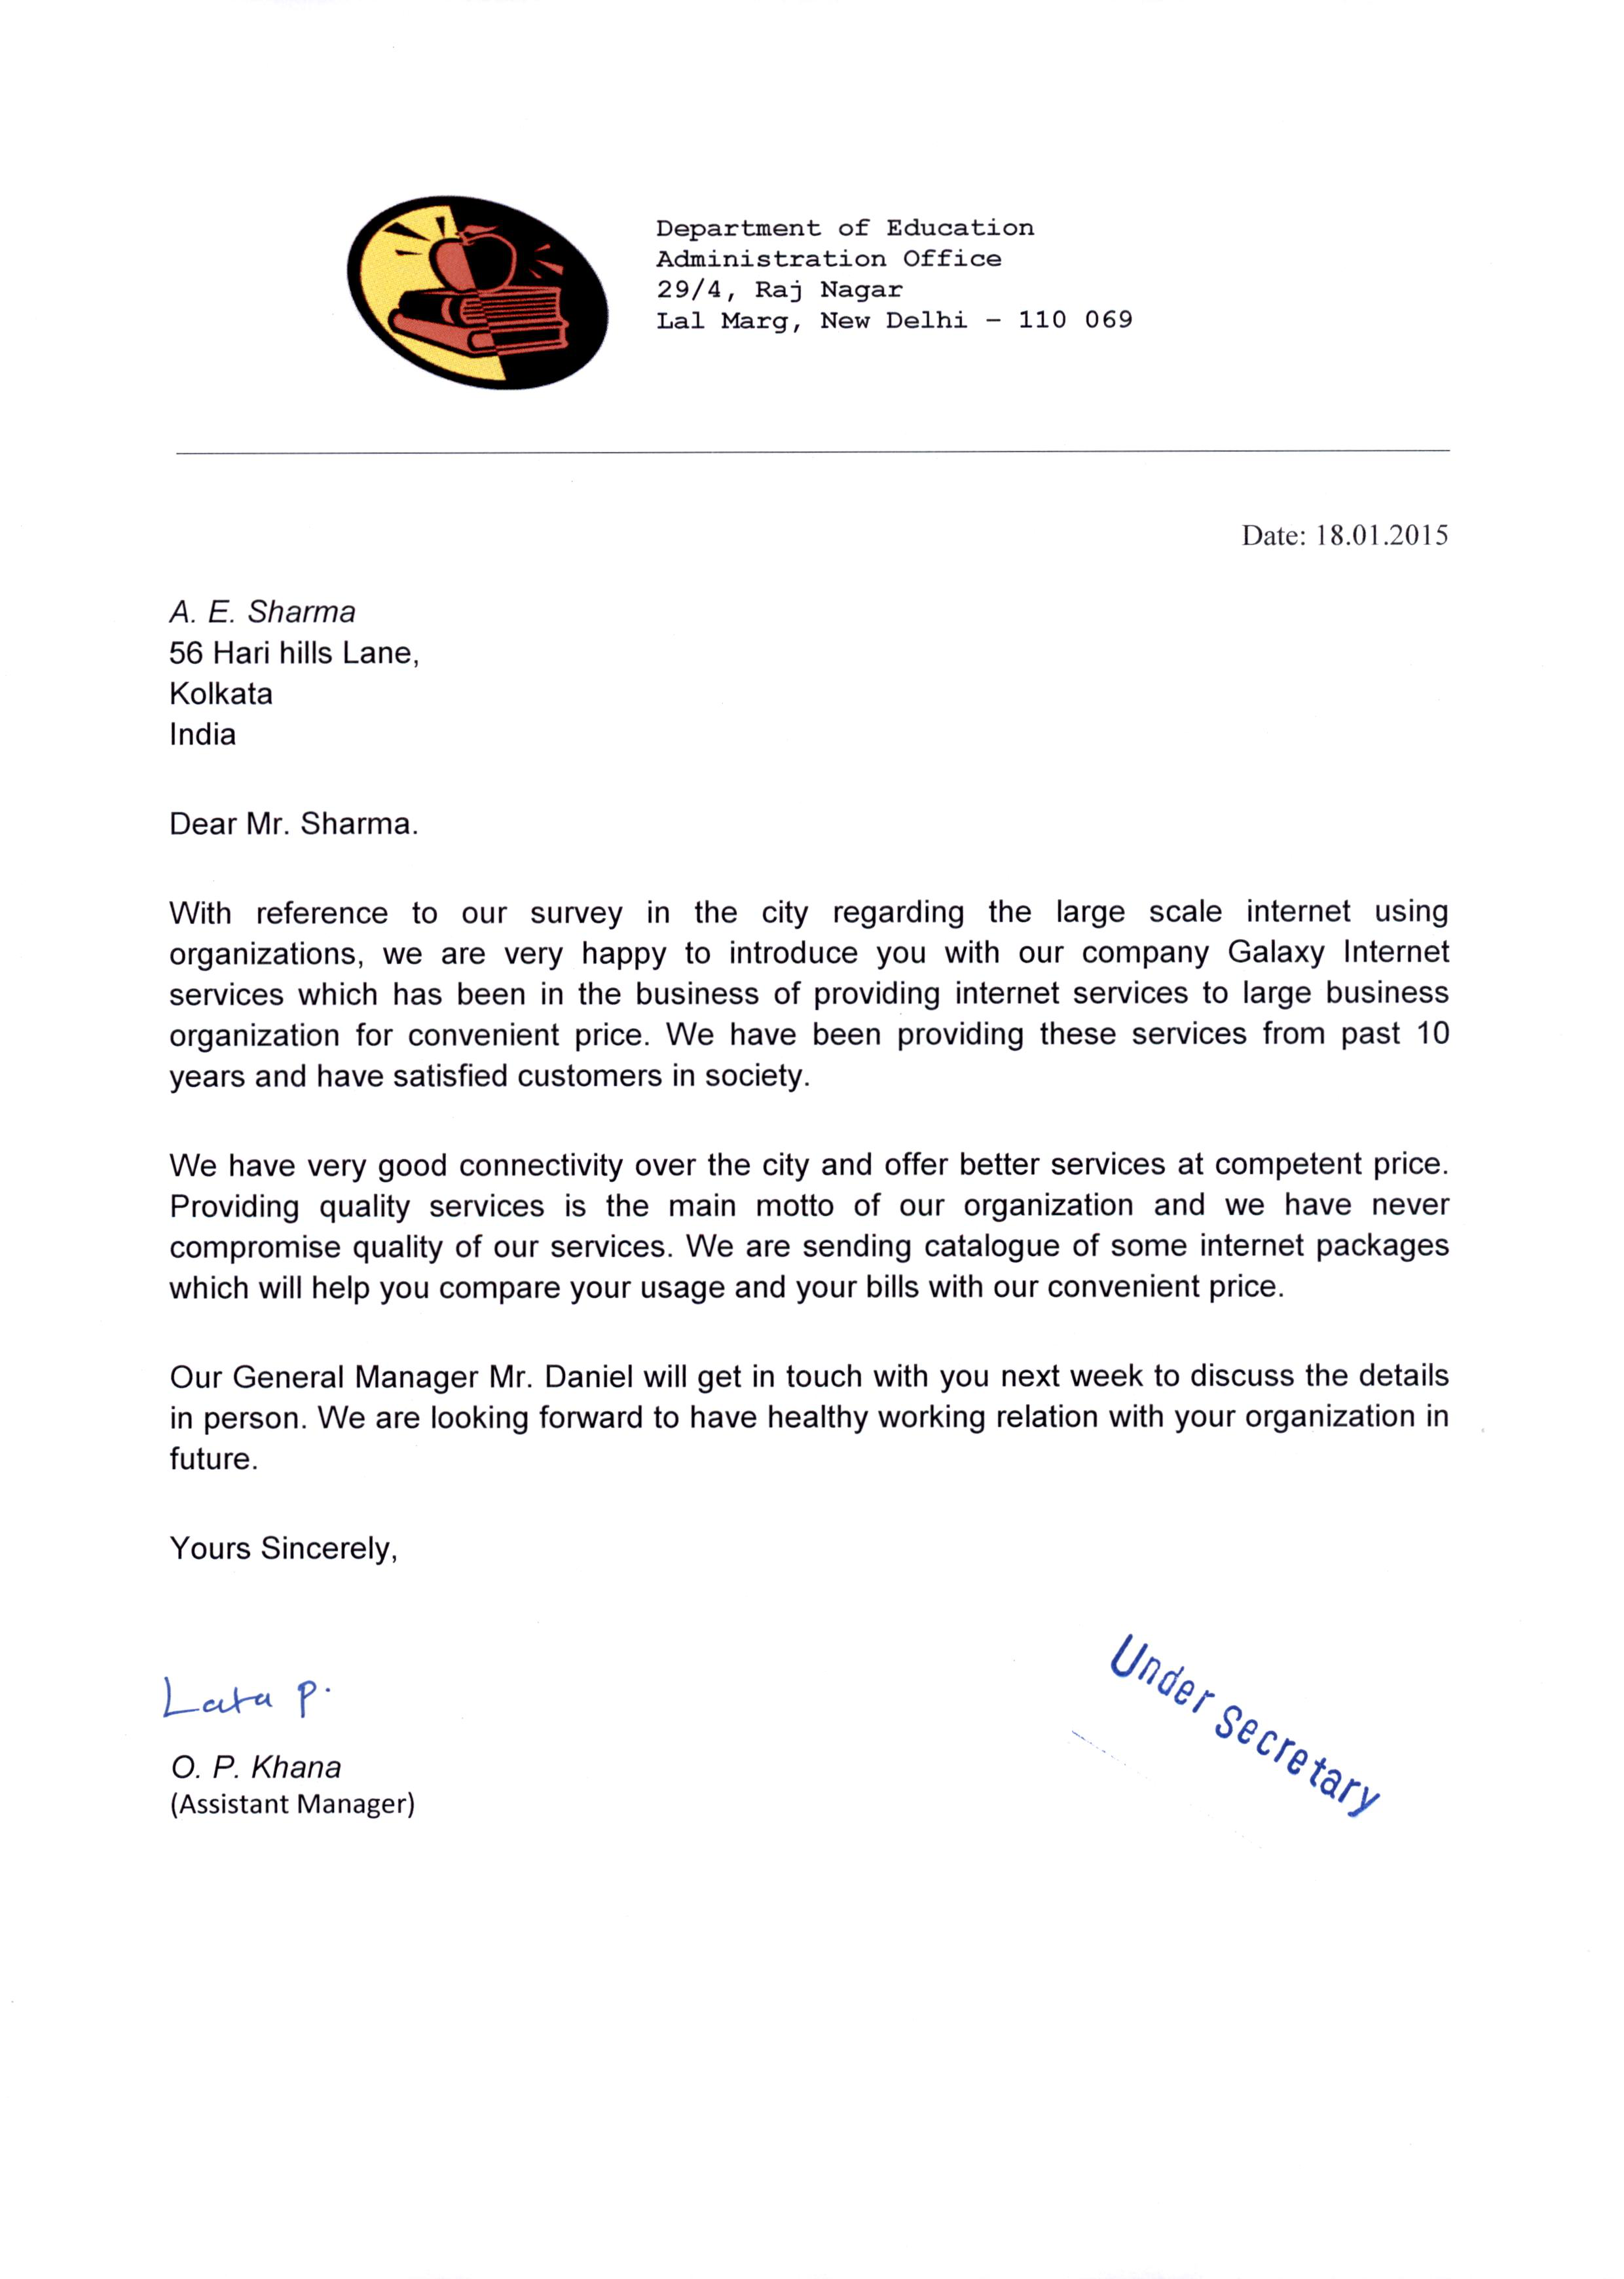Signature: (158, 1657, 339, 1738)
